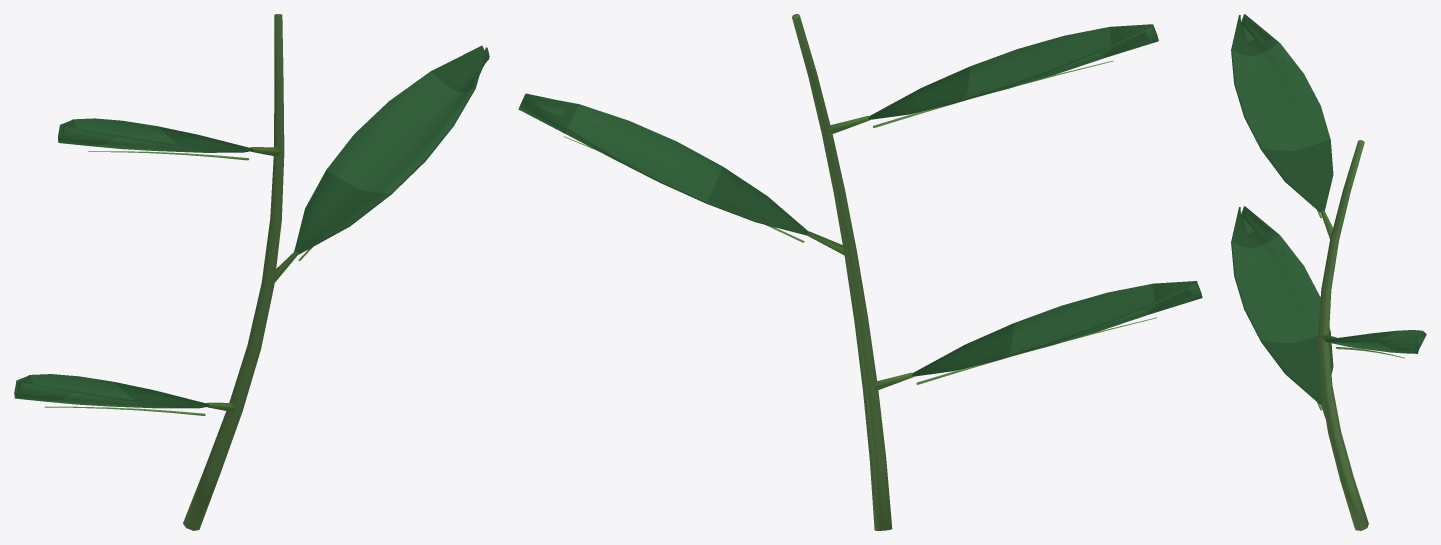
Rendered from garden-tulip-bloom-stem-2.glb.
3 renders of one model, left to right at view 1: azimuth 30°, elevation 25°; view 2: azimuth 150°, elevation 25°; view 3: azimuth 270°, elevation 25°, orthographic. The views are drawn at different scales.
Parts seen in each view (by area): view 1: tulip-bloom-stem-2; view 2: tulip-bloom-stem-2; view 3: tulip-bloom-stem-2.
Boxes of the visible parts, x1,y1,x2,y2 form: tulip-bloom-stem-2: (14,14,489,530); tulip-bloom-stem-2: (518,14,1202,530); tulip-bloom-stem-2: (1231,14,1426,530).
Size of the model in its own units: 0.5113 by 0.4246 by 0.1749.
